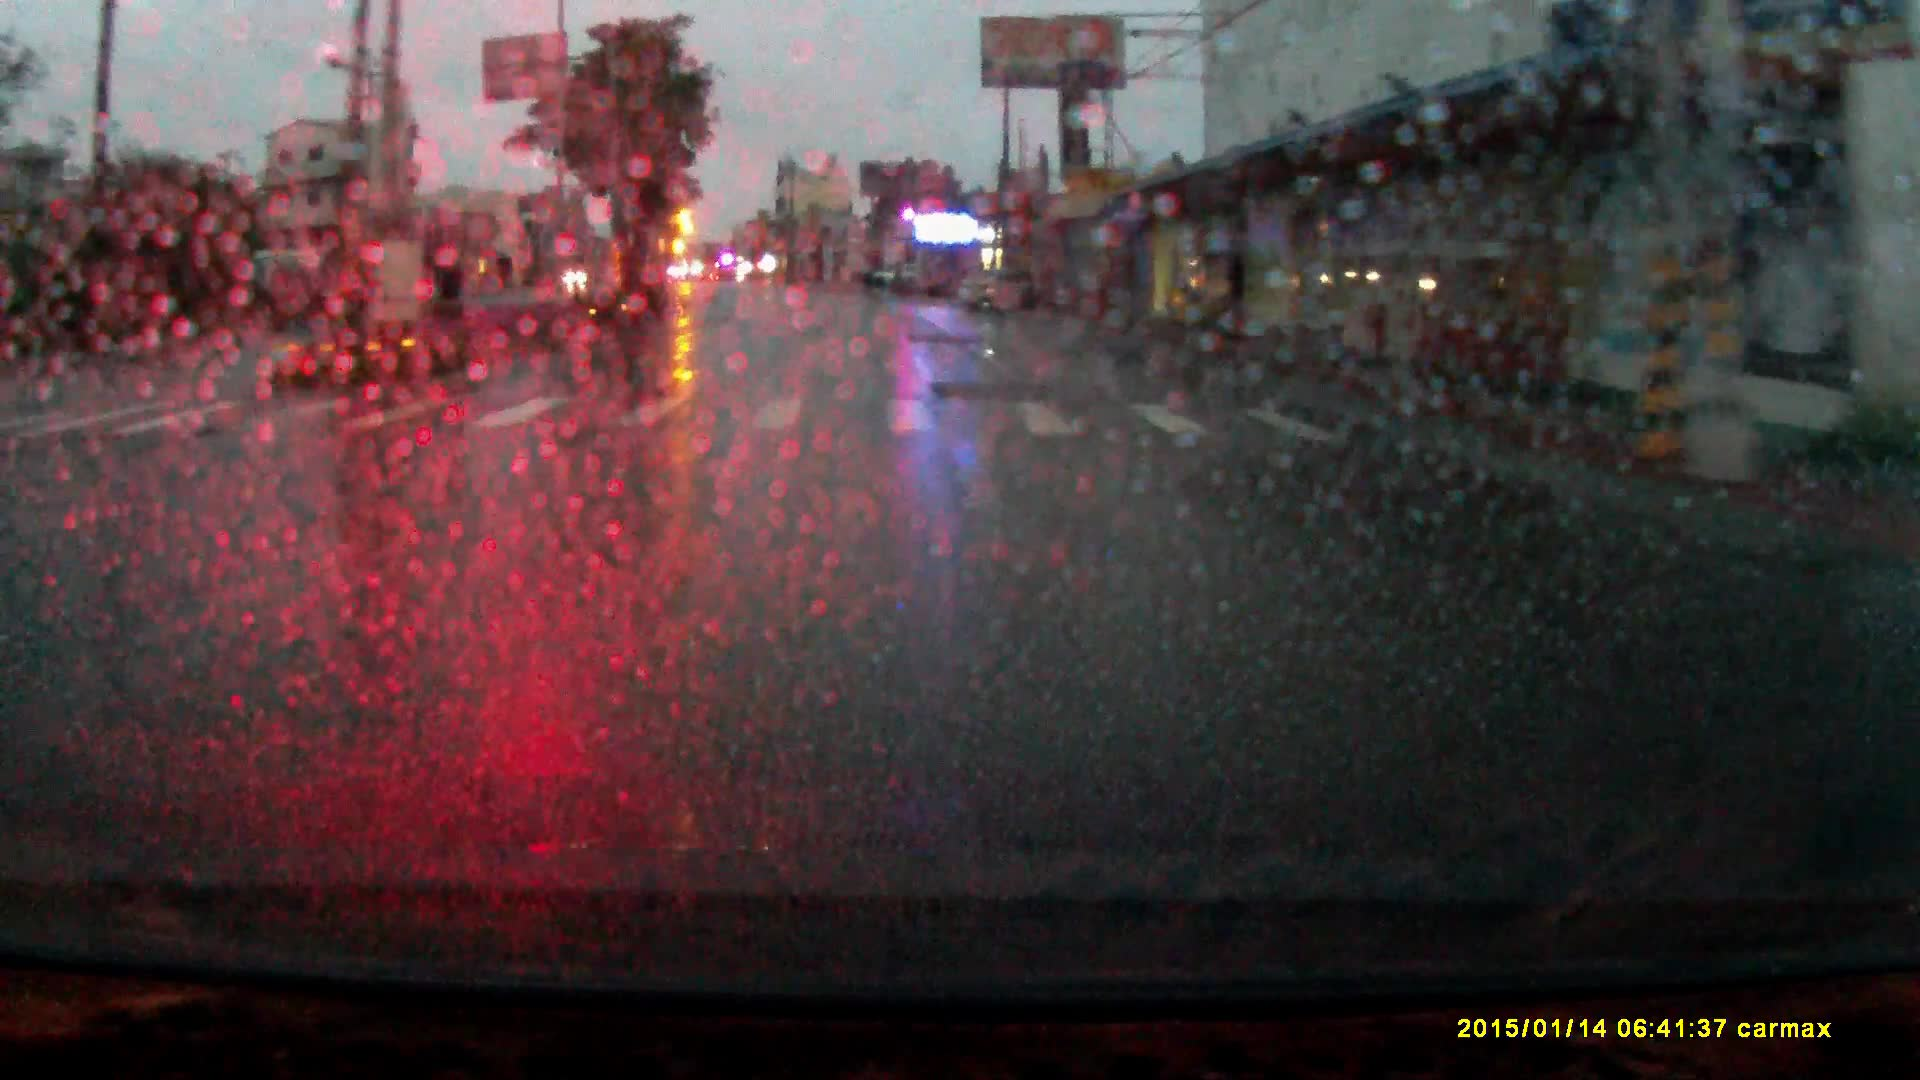vehicle: (957, 266, 1036, 315)
